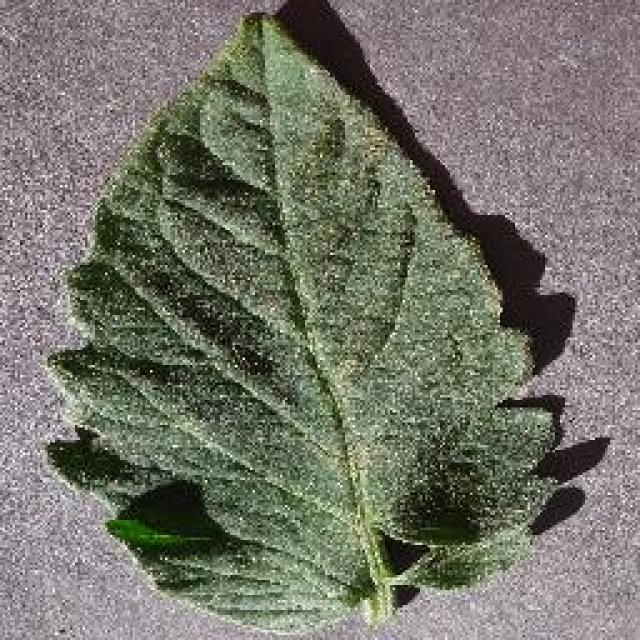Tomato healthy leaf: (50, 10, 558, 612)
